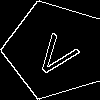V: (30, 25, 87, 81)
